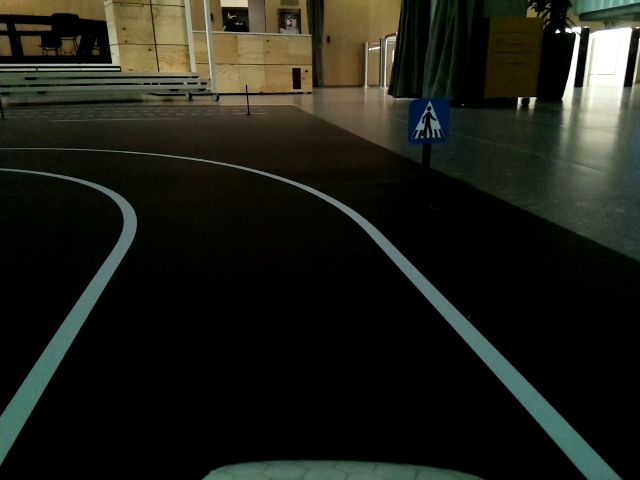pedestrians: (407, 100, 450, 142)
